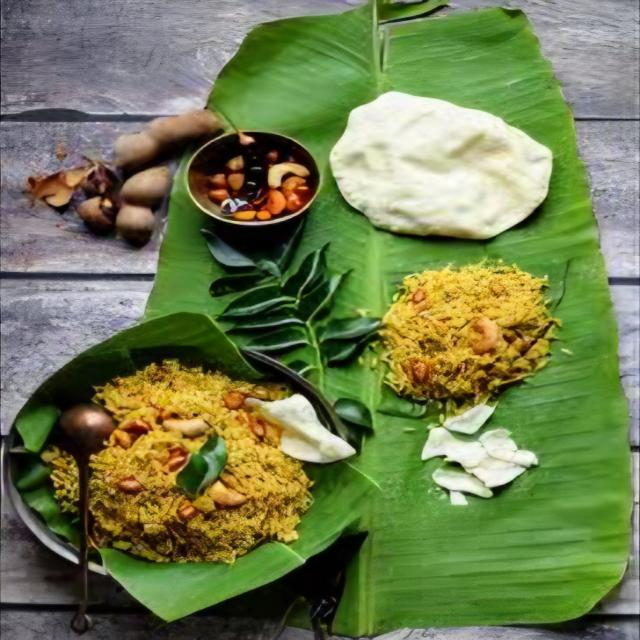DOSA: (331, 90, 559, 244)
RICE: (79, 362, 318, 559), (377, 262, 565, 403)
